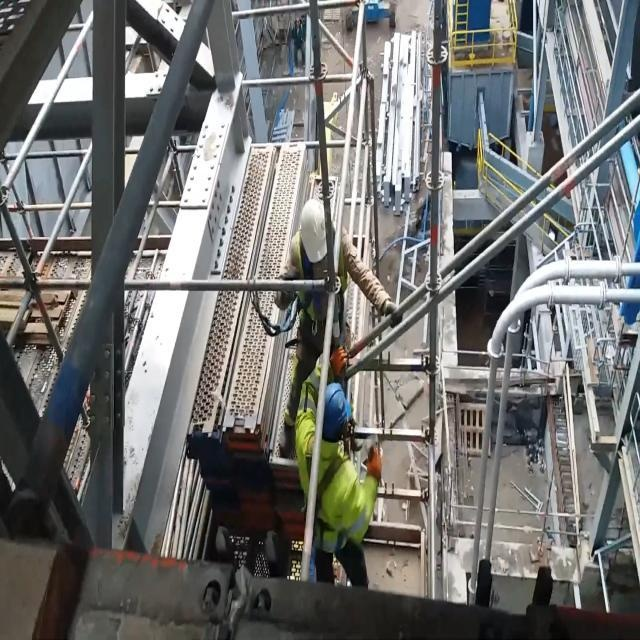Arnes_seguridad: (286, 230, 343, 344)
